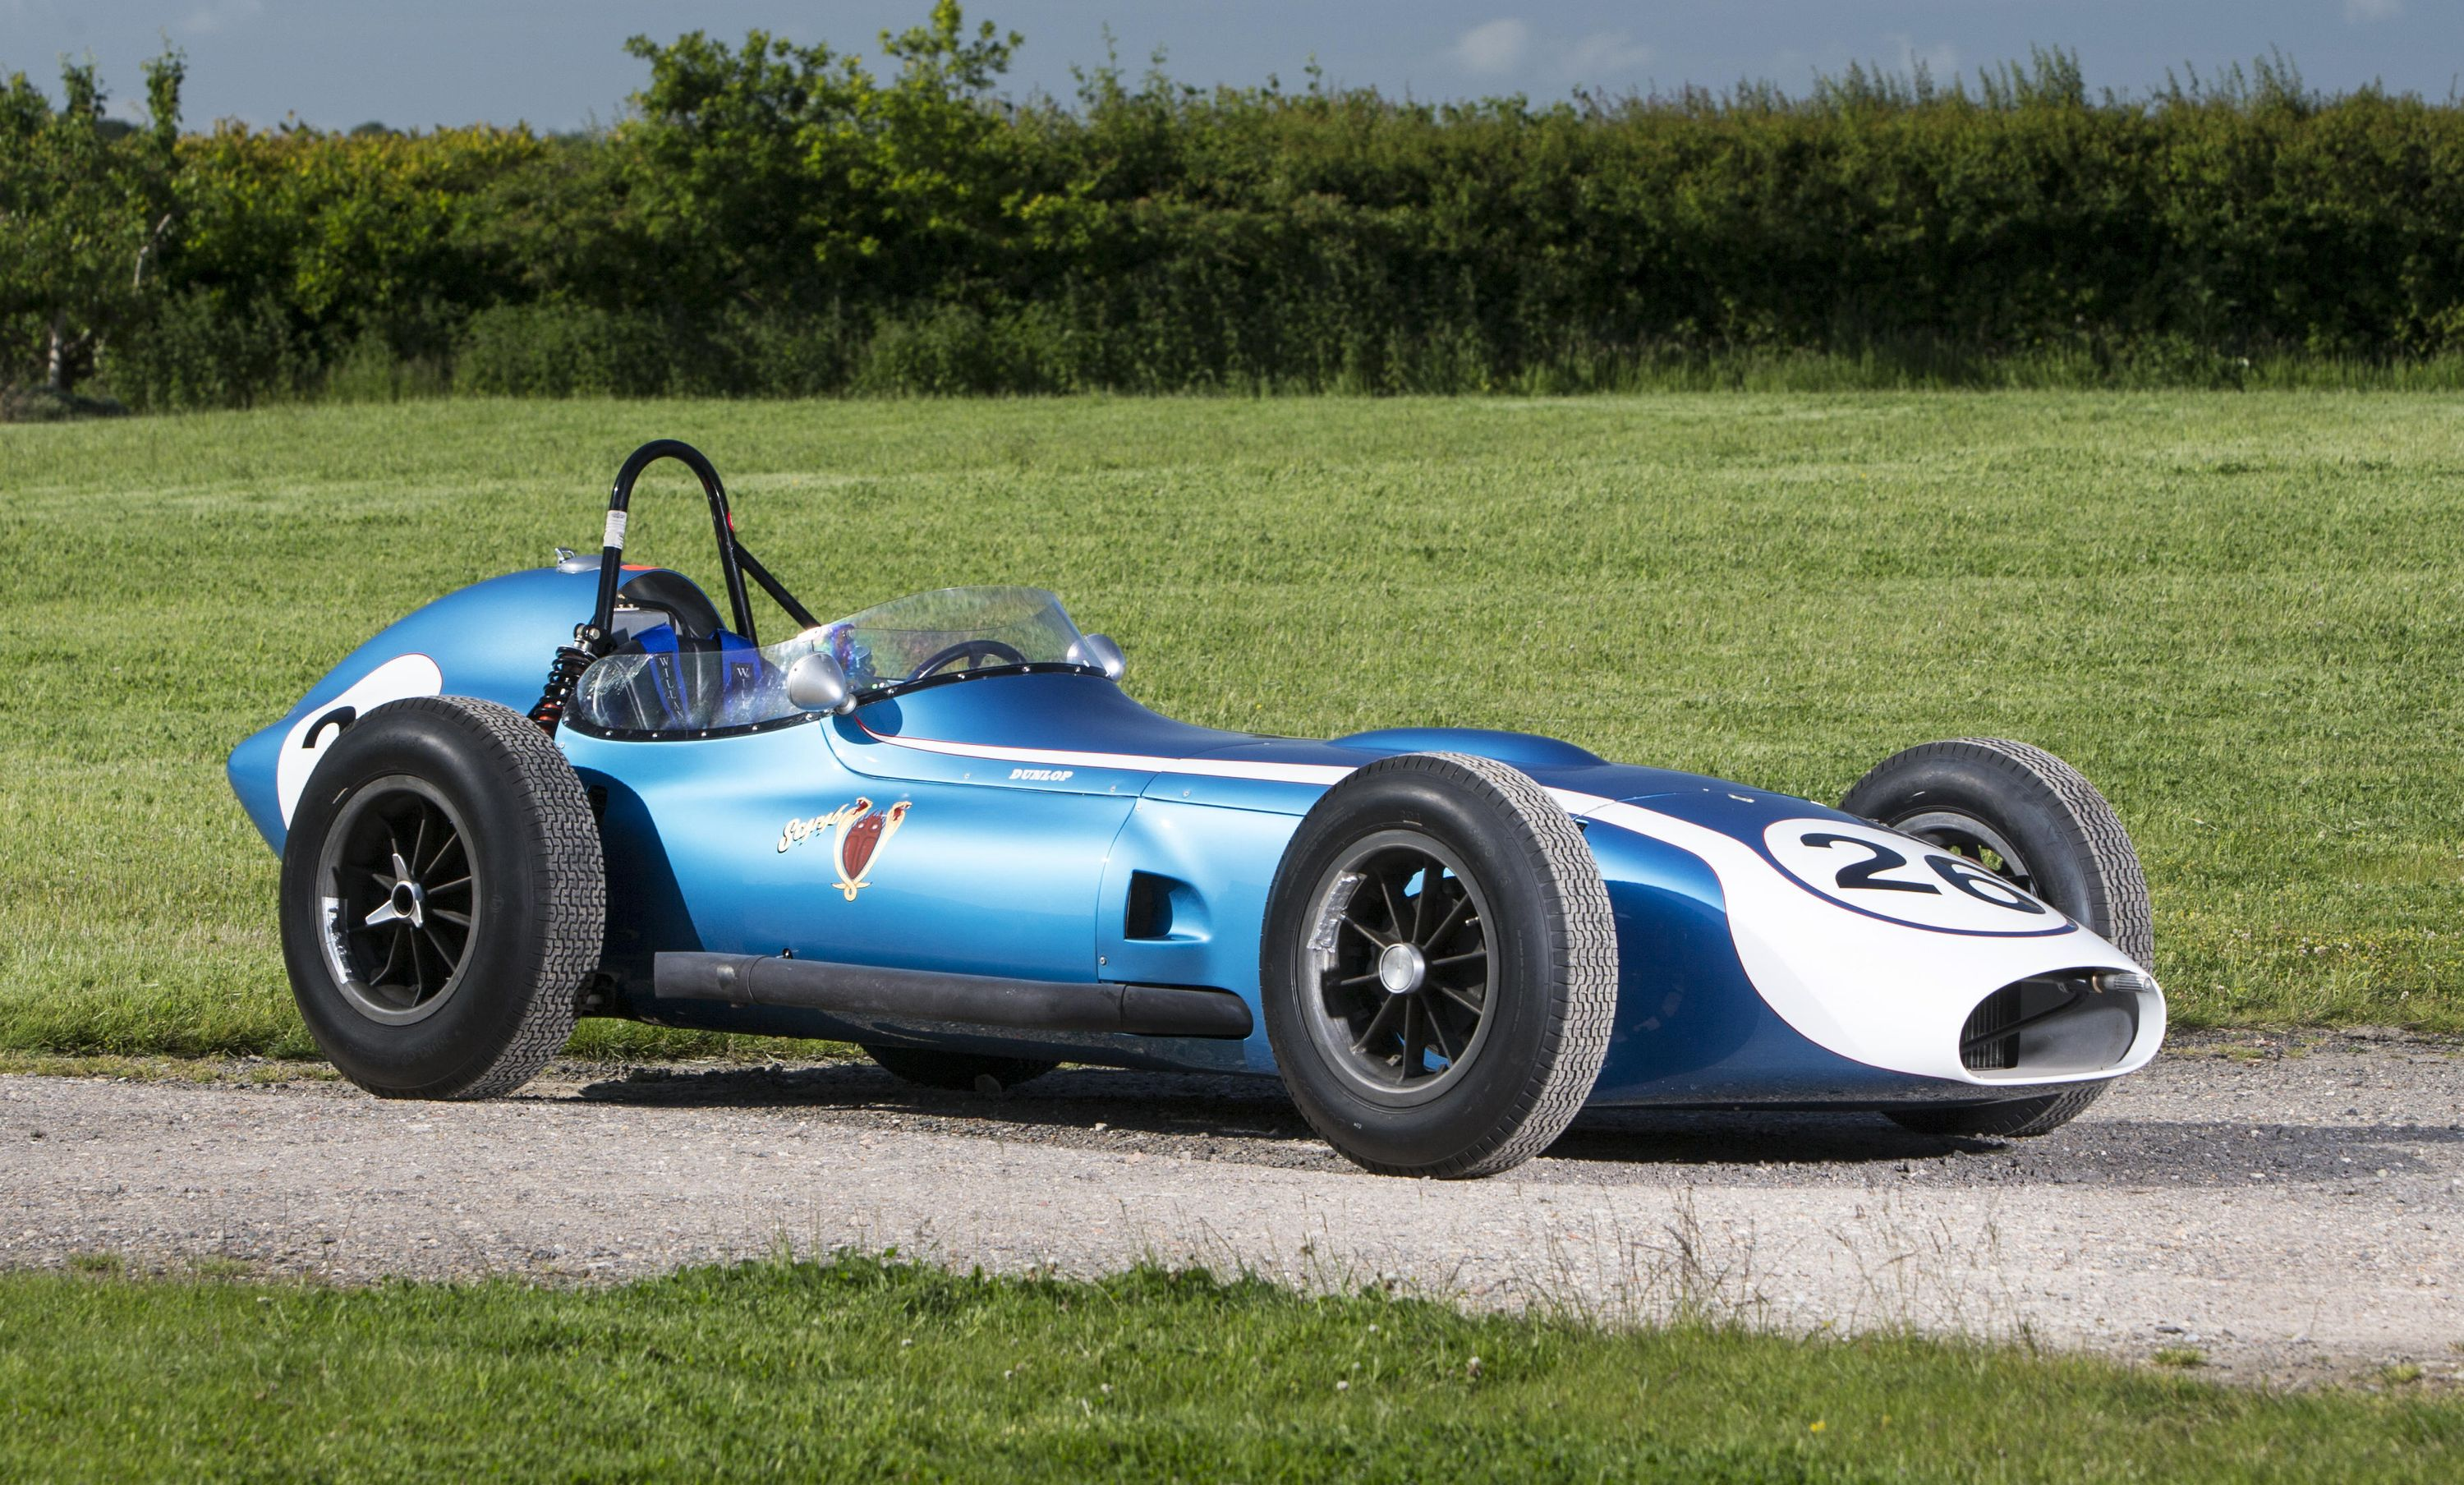f1_car: (199, 422, 2237, 1265)
